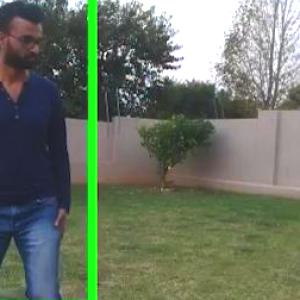follow: (0, 0, 87, 299)
